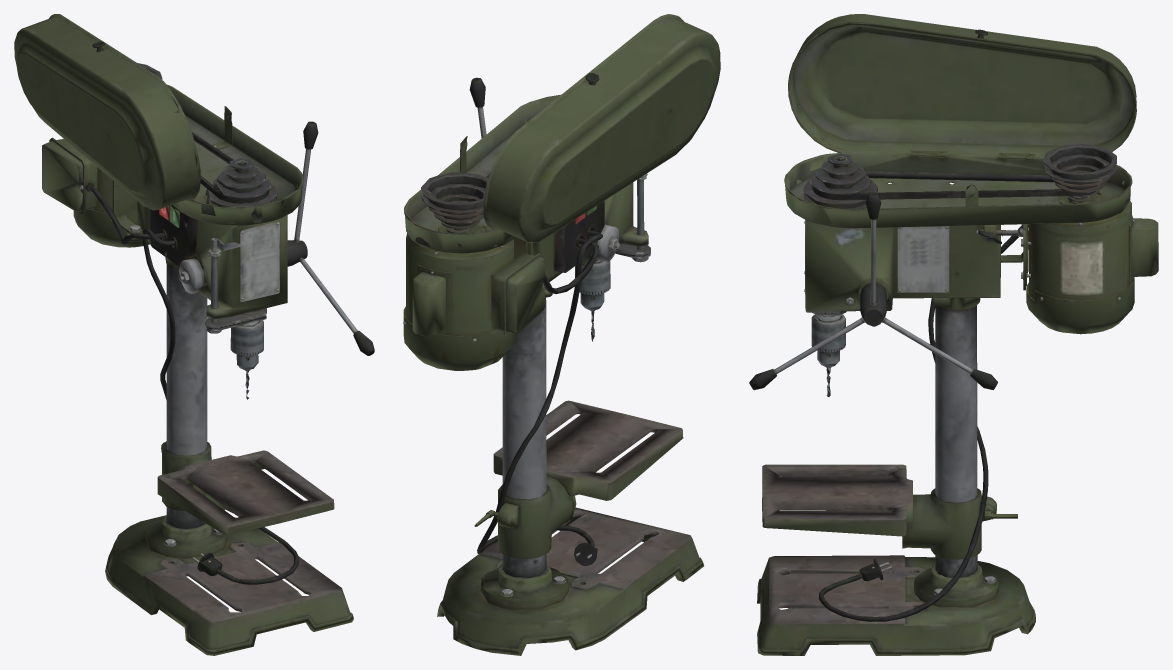
Rendered from drill_press.glb.
3 renders of one model, left to right at view 1: azimuth 30°, elevation 25°; view 2: azimuth 150°, elevation 25°; view 3: azimuth 270°, elevation 25°, orthographic. The views are drawn at different scales.
Parts seen in each view (by area): view 1: drill_press_01, drill_press_01_lid, drill_press_01_plate, drill_press_01_plug, drill_press_01_gear_b, drill_press_01_handle, drill_press_01_limiter, drill_press_01_bit, drill_press_01_belt; view 2: drill_press_01, drill_press_01_lid, drill_press_01_plate, drill_press_01_gear_a, drill_press_01_plug, drill_press_01_bit, drill_press_01_limiter, drill_press_01_handle; view 3: drill_press_01, drill_press_01_lid, drill_press_01_plate, drill_press_01_handle, drill_press_01_belt, drill_press_01_gear_a, drill_press_01_plug, drill_press_01_gear_b, drill_press_01_bit.
Part boxes in pixels (bbox=[...]): drill_press_01: bbox=[42, 84, 353, 655]; drill_press_01_lid: bbox=[14, 14, 200, 210]; drill_press_01_plate: bbox=[157, 441, 334, 535]; drill_press_01_plug: bbox=[142, 228, 299, 584]; drill_press_01_gear_b: bbox=[205, 158, 277, 206]; drill_press_01_handle: bbox=[287, 121, 374, 355]; drill_press_01_limiter: bbox=[205, 238, 266, 333]; drill_press_01_bit: bbox=[230, 320, 263, 399]; drill_press_01_belt: bbox=[192, 132, 269, 203]; drill_press_01: bbox=[403, 94, 703, 655]; drill_press_01_lid: bbox=[483, 14, 720, 242]; drill_press_01_plate: bbox=[493, 400, 683, 558]; drill_press_01_gear_a: bbox=[421, 172, 488, 233]; drill_press_01_plug: bbox=[477, 230, 602, 565]; drill_press_01_bit: bbox=[575, 260, 610, 341]; drill_press_01_limiter: bbox=[615, 173, 650, 262]; drill_press_01_handle: bbox=[469, 77, 489, 174]; drill_press_01: bbox=[757, 151, 1158, 655]; drill_press_01_lid: bbox=[788, 14, 1136, 159]; drill_press_01_plate: bbox=[762, 464, 996, 559]; drill_press_01_handle: bbox=[749, 192, 997, 390]; drill_press_01_belt: bbox=[812, 171, 1095, 200]; drill_press_01_gear_a: bbox=[1043, 143, 1117, 202]; drill_press_01_plug: bbox=[819, 298, 988, 621]; drill_press_01_gear_b: bbox=[803, 153, 877, 209]; drill_press_01_bit: bbox=[811, 314, 845, 396].
Size of the model in its own units: 0.3543 by 0.9011 by 0.5982.
Materials: 1 (1 with a texture image).
